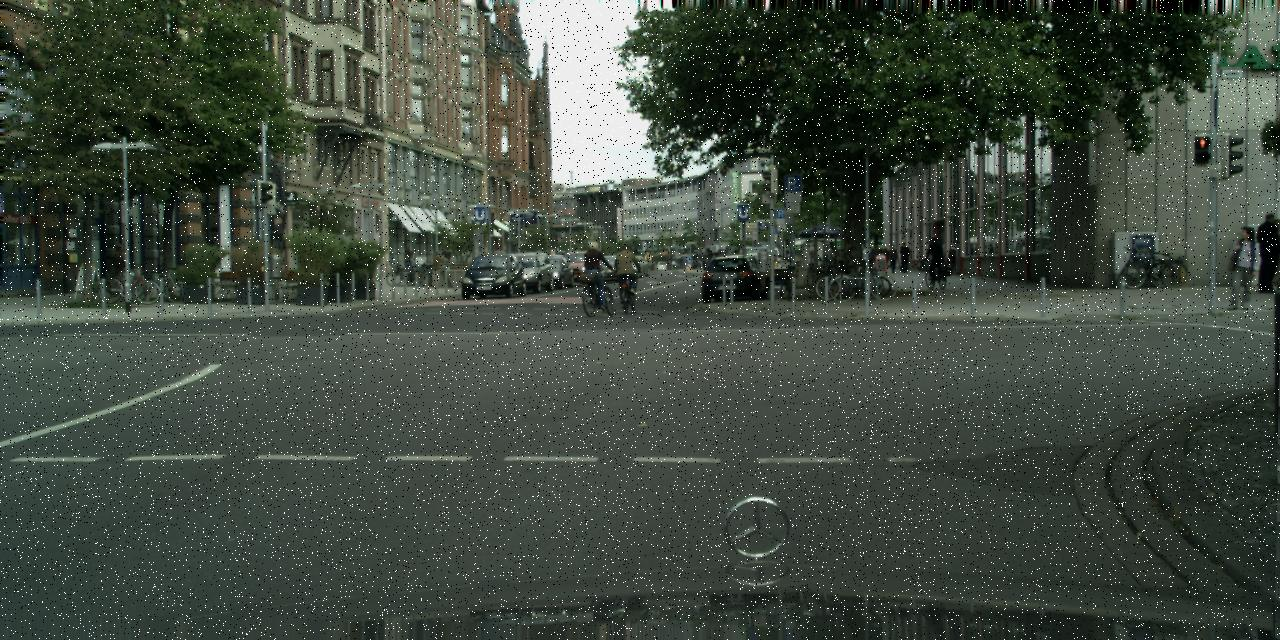ped: (1227, 226, 1260, 308), (1252, 212, 1279, 291), (582, 240, 608, 306), (614, 244, 636, 300), (1263, 218, 1279, 284), (110, 244, 129, 290), (925, 235, 944, 281), (858, 244, 871, 276), (898, 242, 909, 272), (870, 244, 881, 272), (887, 244, 898, 272), (432, 251, 442, 276), (404, 246, 414, 270), (702, 254, 717, 270), (879, 246, 888, 270), (442, 248, 449, 268), (644, 252, 650, 268), (666, 259, 670, 269), (670, 260, 674, 270), (719, 254, 722, 256)
